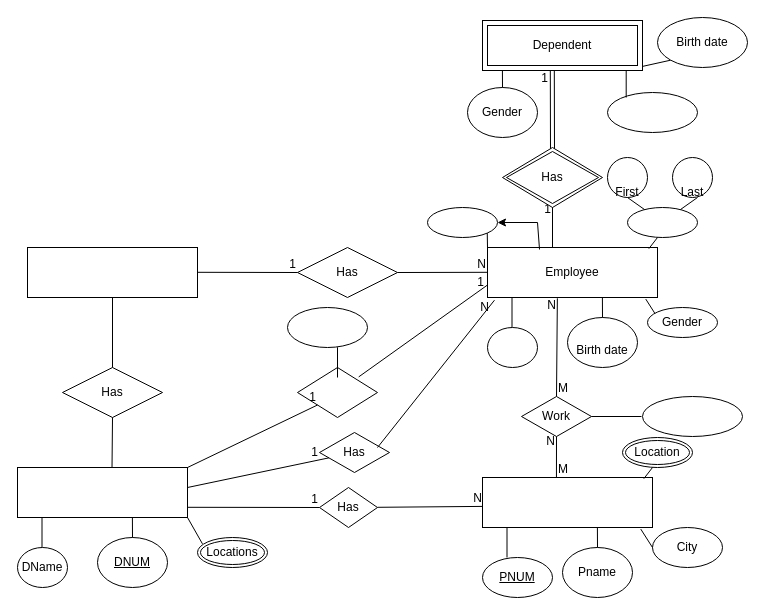
The diagram is 765 pixels wide and 615 high, and some of its shapes have lost their labels. Here are the shapes that lost their labels. From the top down, the centre of each, then its label:
At (652,112): "Dependent name".
At (462,222): "Supervisor".
At (662,222): "Name".
At (112,272): "Company".
At (327,327): "Hiring date".
At (512,347): "SSN".
At (337,392): "Manage".
At (692,416): "Working hours".
At (102,492): "Department".
At (567,502): "Project".
